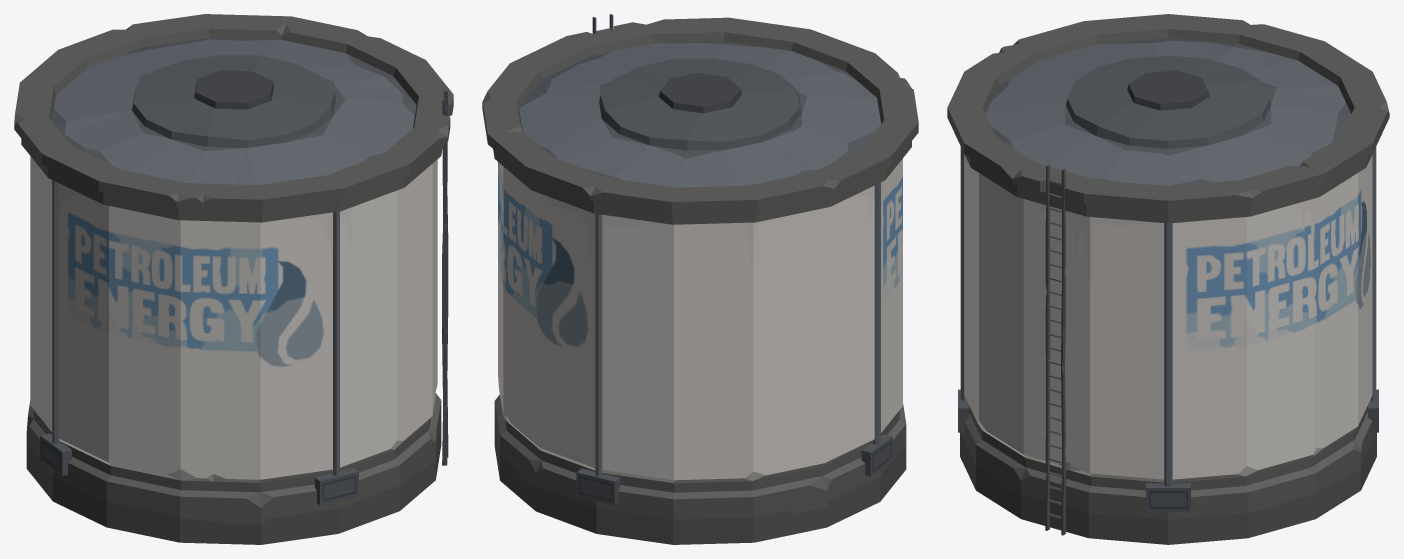
Rendered from SM_Bld_GasTower_02.fbx.
3 views of the same model, side by side, from view 1: azimuth 30°, elevation 25°; view 2: azimuth 150°, elevation 25°; view 3: azimuth 270°, elevation 25° (orthographic).
Parts seen in each view (by area): view 1: SM_Bld_GasTower_02; view 2: SM_Bld_GasTower_02; view 3: SM_Bld_GasTower_02.
Part boxes in pixels (x1,y1,x2,y2): SM_Bld_GasTower_02: [14, 14, 453, 544]; SM_Bld_GasTower_02: [482, 14, 918, 544]; SM_Bld_GasTower_02: [947, 14, 1389, 544].
Bounding box in the file's own units: 1437 × 1326 × 1437.
